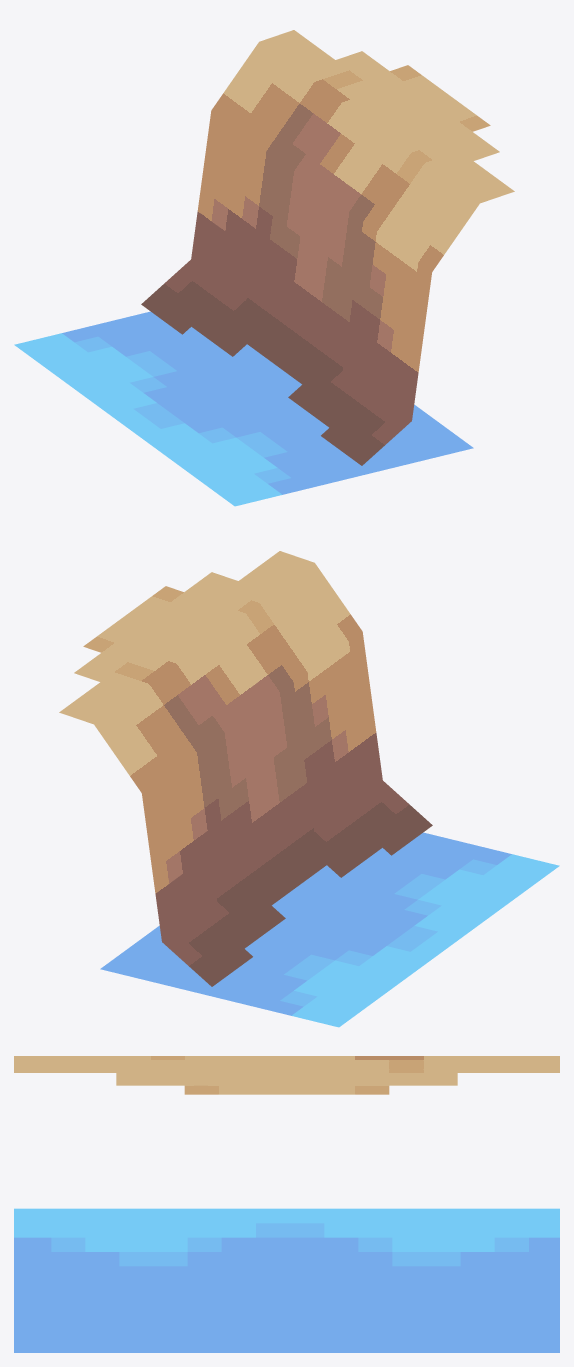
3 views of the same model, one above another, from view 1: azimuth 30°, elevation 25°; view 2: azimuth 150°, elevation 25°; view 3: azimuth 270°, elevation 25° (orthographic). The views are drawn at different scales.
Bounding box in the file's own units: 0.8496 × 0.627 × 1.
2 materials, 2 textured.
